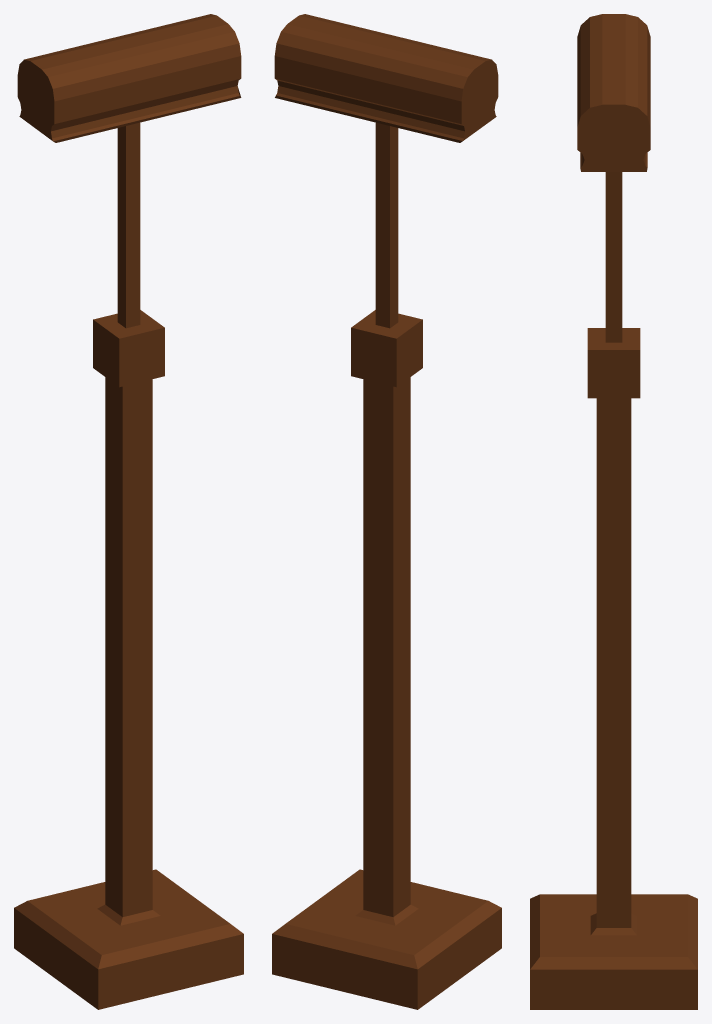
File: Rambarde_petit.fbx
3 views of the same model, side by side, from view 1: azimuth 30°, elevation 25°; view 2: azimuth 150°, elevation 25°; view 3: azimuth 270°, elevation 25° (orthographic).
Parts seen in each view (by area): view 1: Rambarde Petit; view 2: Rambarde Petit; view 3: Rambarde Petit.
Boxes of the visible parts, x1,y1,x2,y2 form: Rambarde Petit: (14, 14, 243, 1009); Rambarde Petit: (272, 14, 501, 1009); Rambarde Petit: (530, 14, 697, 1009).
Size of the model in its own units: 81.33 by 378 by 62.83.
